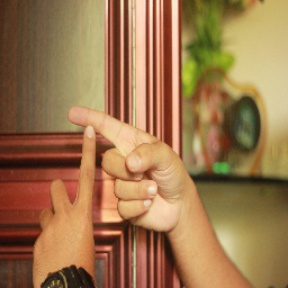T: (38, 97, 159, 240)
